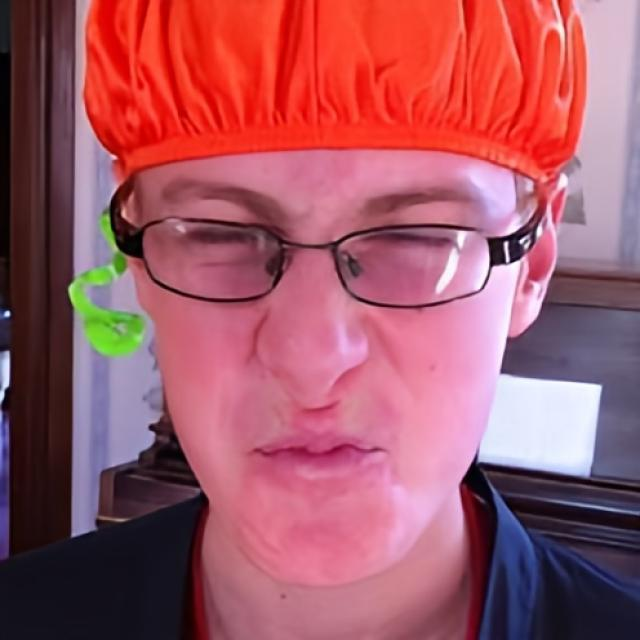disgust: (133, 145, 525, 587)
